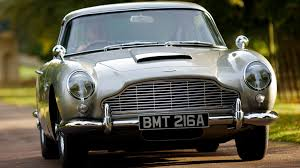number_plate: (134, 112, 219, 136)
